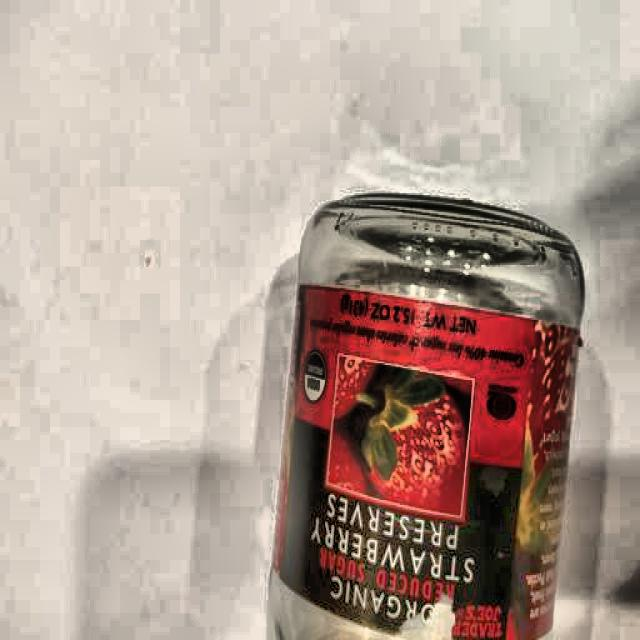glass: (275, 188, 581, 640)
